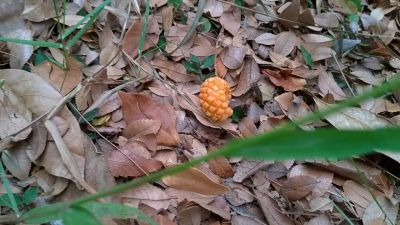eggs: (197, 73, 237, 125)
